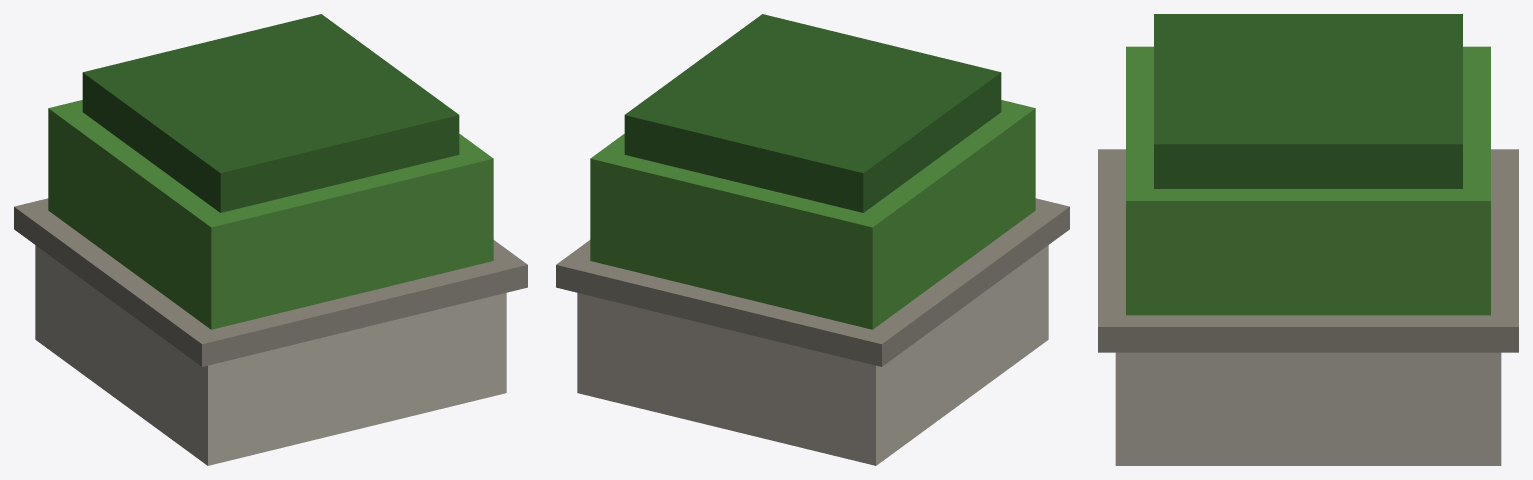
Rendered from env_planter_hedge.obj.
3 renders of one model, left to right at view 1: azimuth 30°, elevation 25°; view 2: azimuth 150°, elevation 25°; view 3: azimuth 270°, elevation 25°, orthographic. The views are drawn at different scales.
Parts seen in each view (by area): view 1: PlanterHedge; view 2: PlanterHedge; view 3: PlanterHedge.
Part boxes in pixels (x1=…): PlanterHedge: x1=14, y1=14, x2=527, y2=465; PlanterHedge: x1=556, y1=14, x2=1069, y2=465; PlanterHedge: x1=1098, y1=14, x2=1518, y2=465.
Size of the model in its own units: 1.2 by 0.96 by 1.2.
